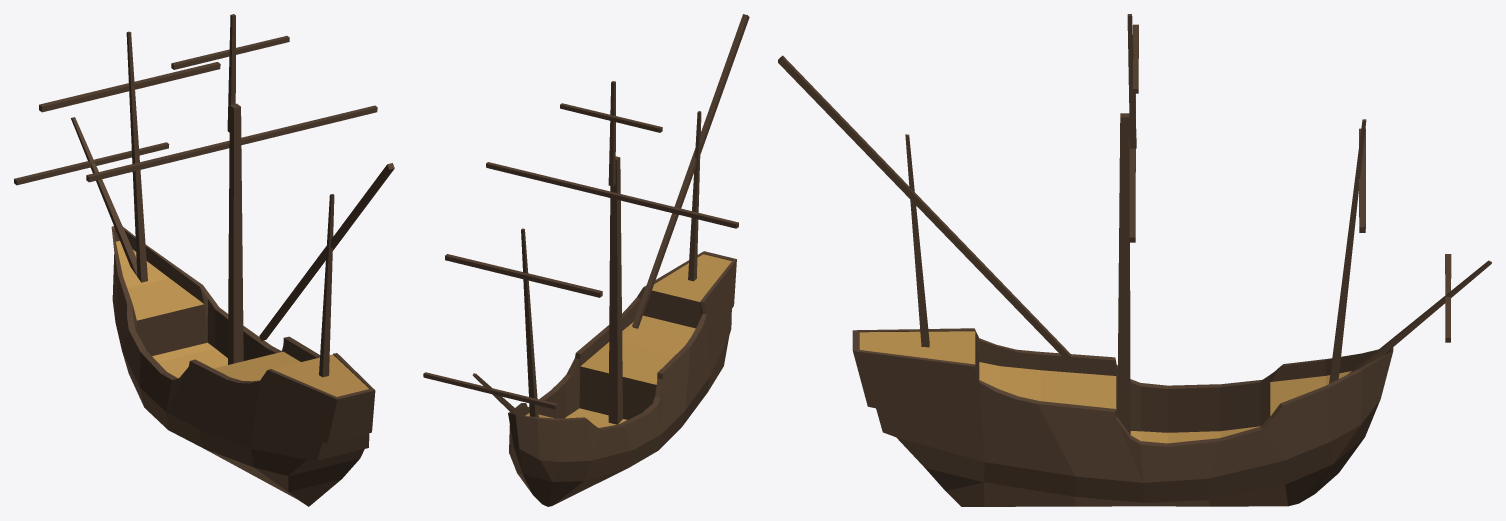
File: caravel_elite.glb
3 renders of one model, left to right at view 1: azimuth 30°, elevation 25°; view 2: azimuth 150°, elevation 25°; view 3: azimuth 270°, elevation 25°, orthographic. The views are drawn at different scales.
Parts seen in each view (by area): view 1: Plane; view 2: Plane; view 3: Plane.
Boxes of the visible parts, bbox=[...] form: Plane: bbox=[14, 14, 394, 506]; Plane: bbox=[423, 14, 749, 506]; Plane: bbox=[778, 14, 1491, 506].
Bounding box in the file's own units: 0.6155 × 0.891 × 1.17.
